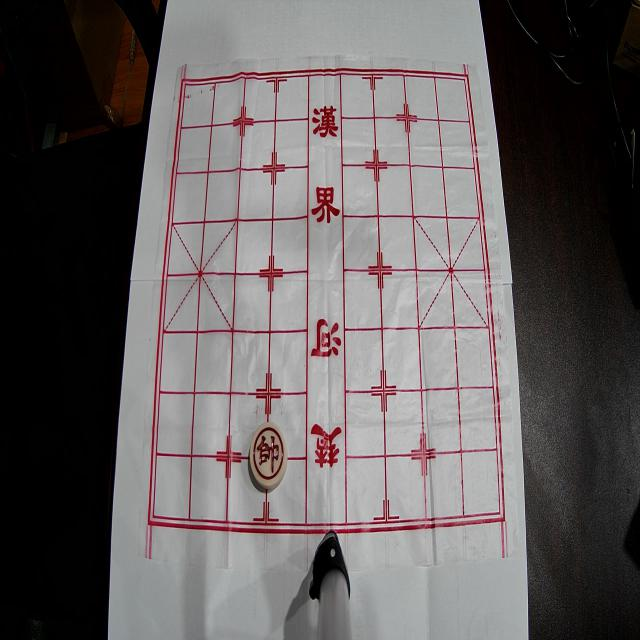red-general: (250, 422, 287, 490)
